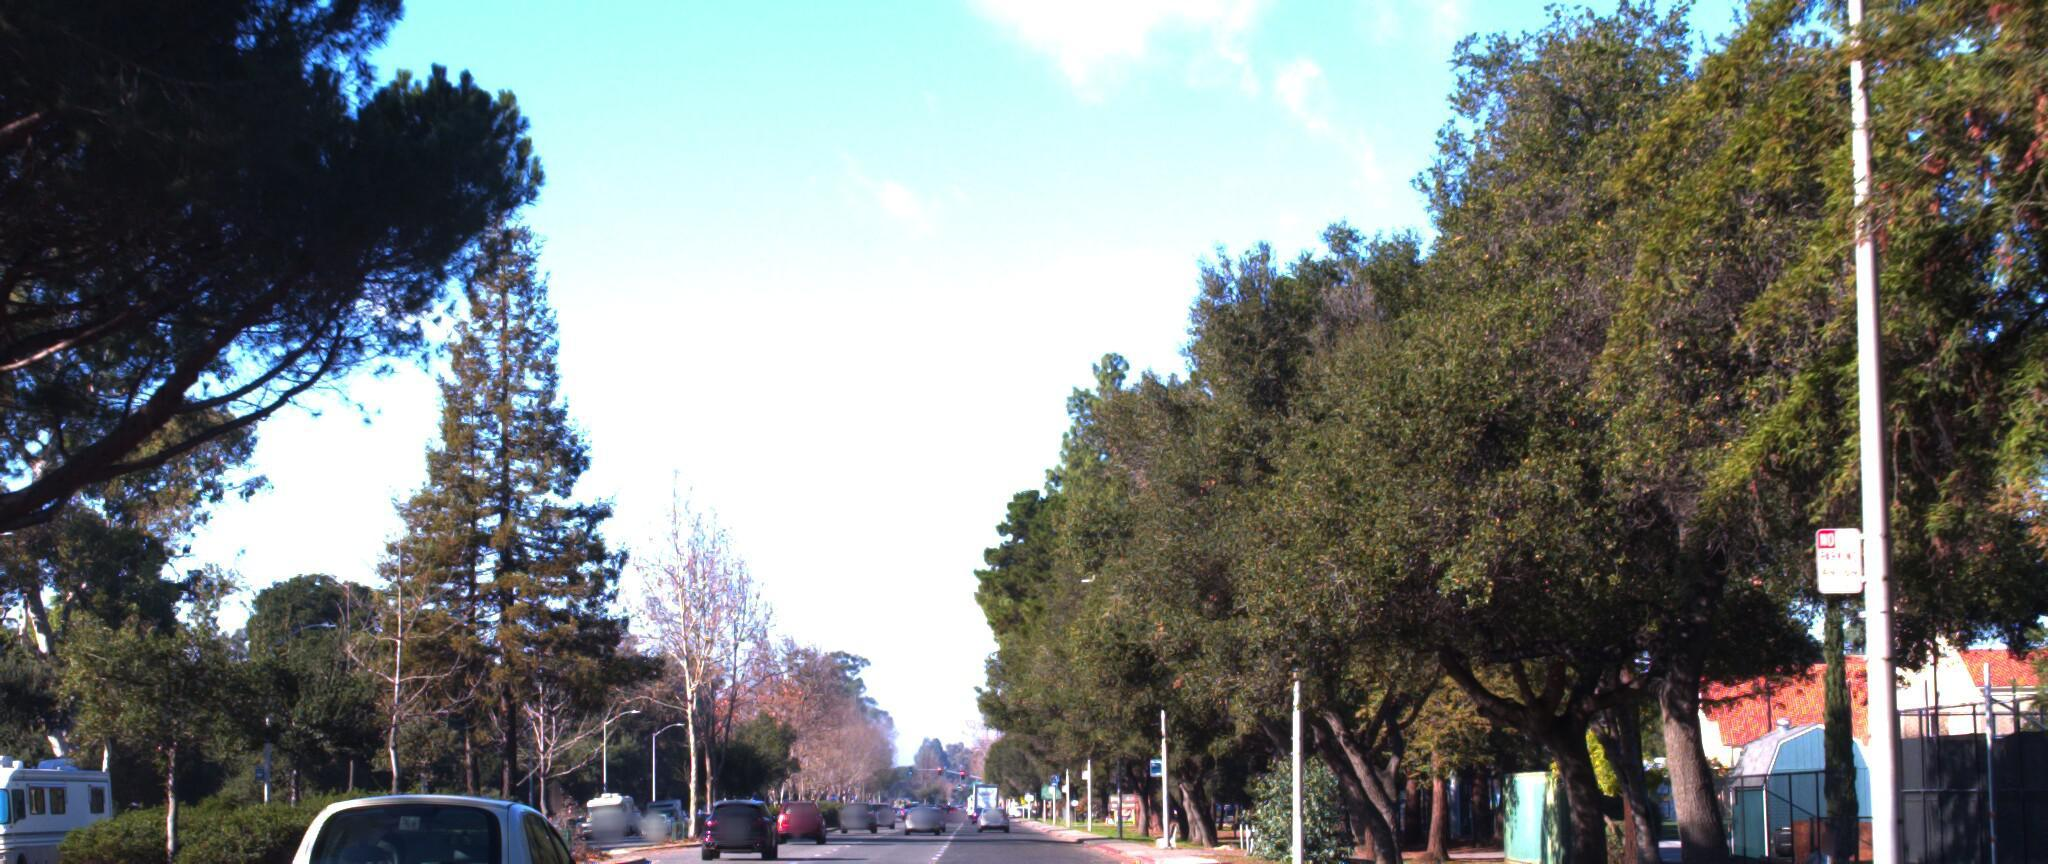car: (229, 778, 639, 864), (696, 778, 775, 850)
other_vehicle: (0, 736, 123, 864)
